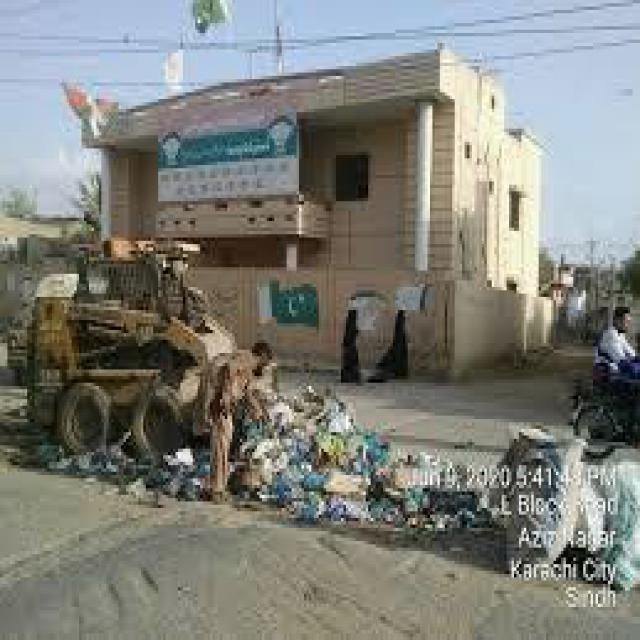garbage: (383, 445, 613, 574), (255, 376, 373, 515), (74, 436, 215, 502)
